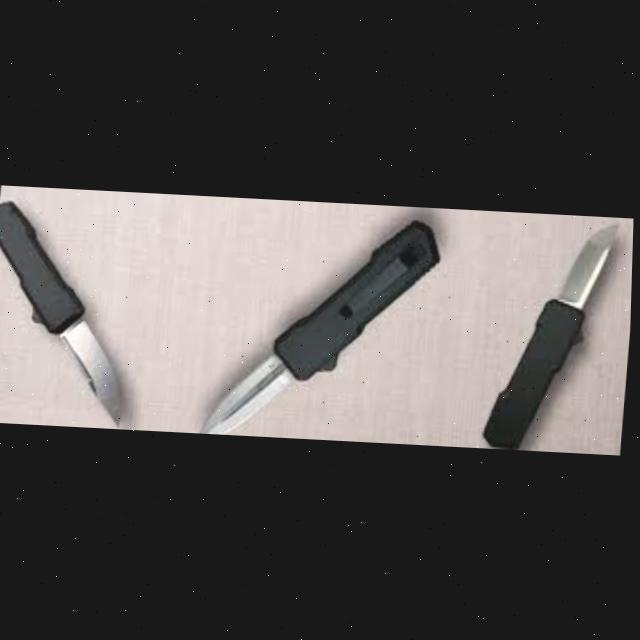Knife: (196, 207, 444, 444), (484, 215, 621, 452), (0, 197, 140, 424)
